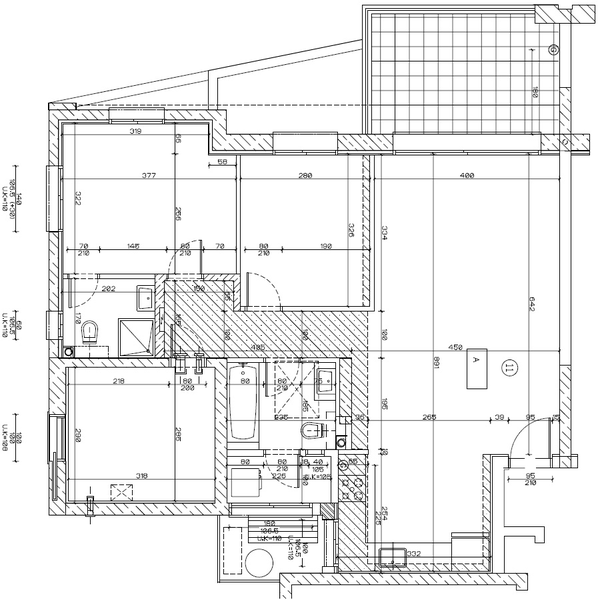door: (509, 413, 555, 472), (165, 237, 207, 287), (242, 269, 284, 314), (262, 447, 304, 492), (266, 356, 307, 397), (63, 269, 99, 310)
room: (365, 137, 570, 472), (49, 106, 241, 284), (43, 354, 232, 514), (237, 131, 374, 313)
wall: (283, 571, 529, 585), (66, 497, 226, 513), (215, 360, 228, 498), (211, 134, 277, 157), (340, 359, 354, 444), (48, 360, 68, 418), (167, 105, 224, 124), (67, 357, 172, 367), (46, 462, 64, 517), (47, 235, 60, 310), (341, 133, 389, 152), (61, 104, 107, 122), (48, 106, 63, 161)
window: (275, 131, 338, 155), (231, 501, 313, 519), (47, 165, 63, 234), (46, 311, 66, 359), (52, 416, 68, 462)
